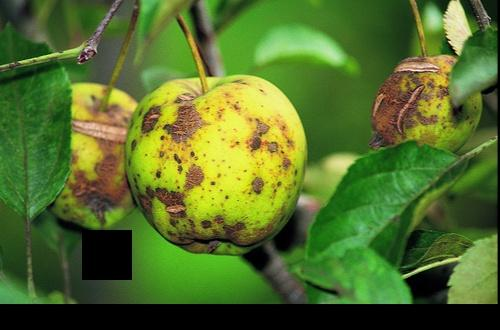rotten apple: (126, 74, 314, 259), (30, 77, 138, 234), (365, 54, 491, 162)
